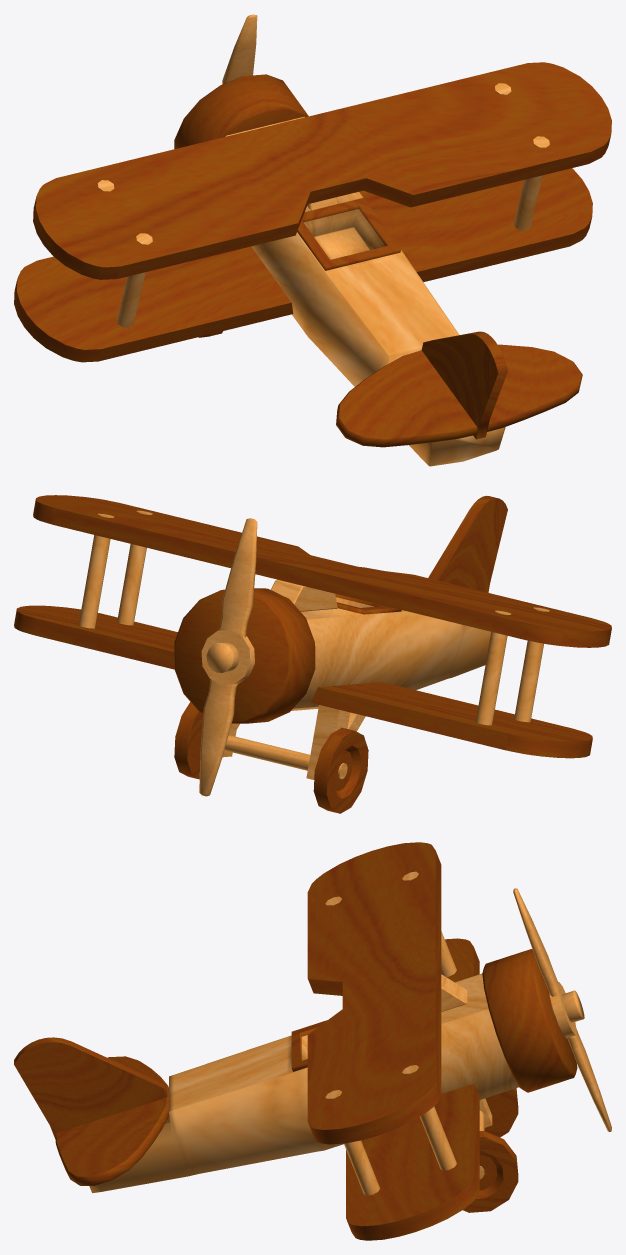
3 renders of one model, top to bottom at view 1: azimuth 30°, elevation 25°; view 2: azimuth 150°, elevation 25°; view 3: azimuth 270°, elevation 25°, orthographic.
Visible parts, largest first — view 1: Plane, Propeller; view 2: Plane, Propeller; view 3: Plane, Propeller.
Part boxes in pixels (<box>): Plane: <box>14,62,611,466</box>; Propeller: <box>222,14,257,84</box>; Plane: <box>14,495,611,813</box>; Propeller: <box>199,518,257,796</box>; Plane: <box>14,842,584,1240</box>; Propeller: <box>513,888,611,1131</box>.
Size of the model in its own units: 18.84 by 9.47 by 17.6.
